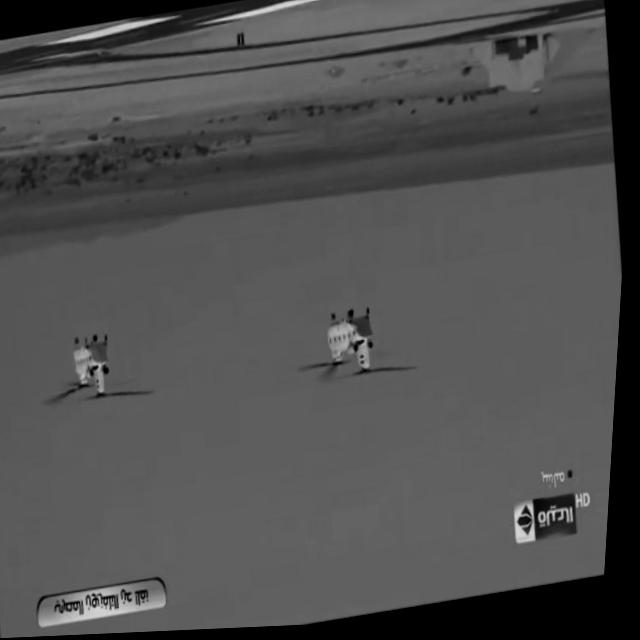helikopter: (40, 312, 167, 429), (295, 291, 418, 411)
